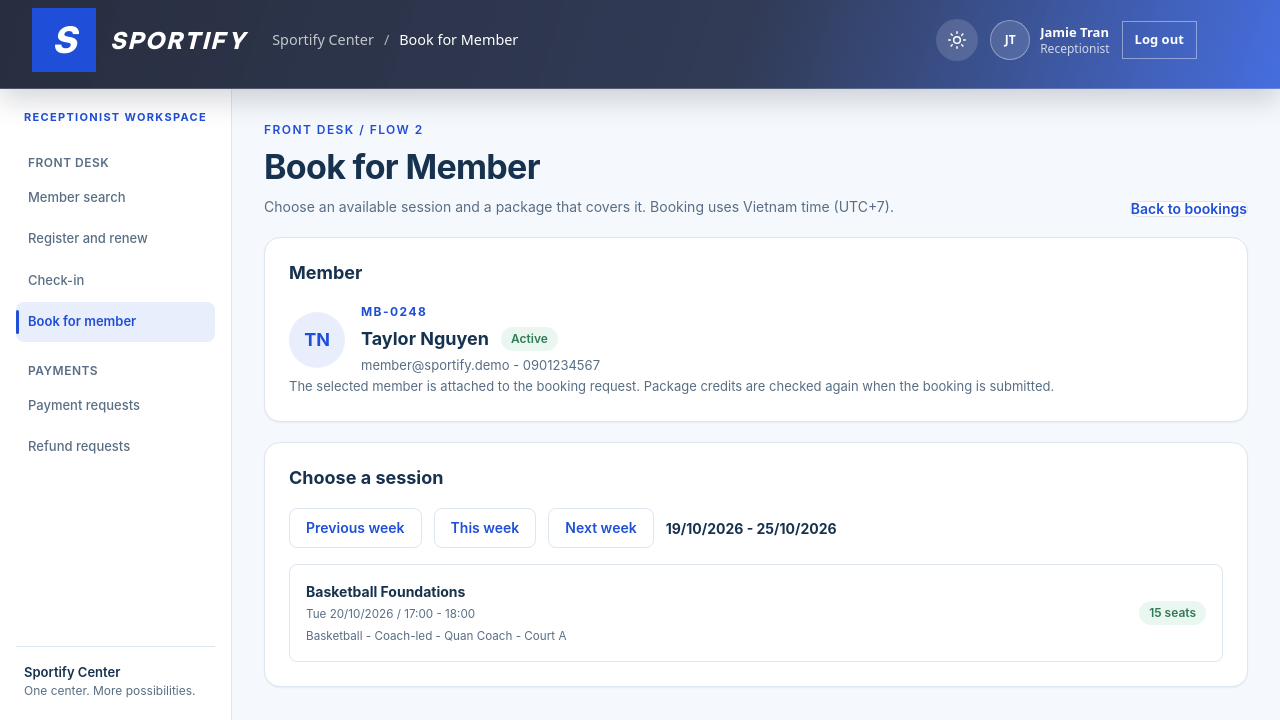
Scenario: FE-10 receptionist booking screens › creates a booking with explicit member and eligible package, then shows the confirmation
This screenshot has width=1280, height=720.
Step 1. Click the radio button labelled "Basketball Foundations" → click(386, 592), box [289,564,1223,662]
(page scrolled)
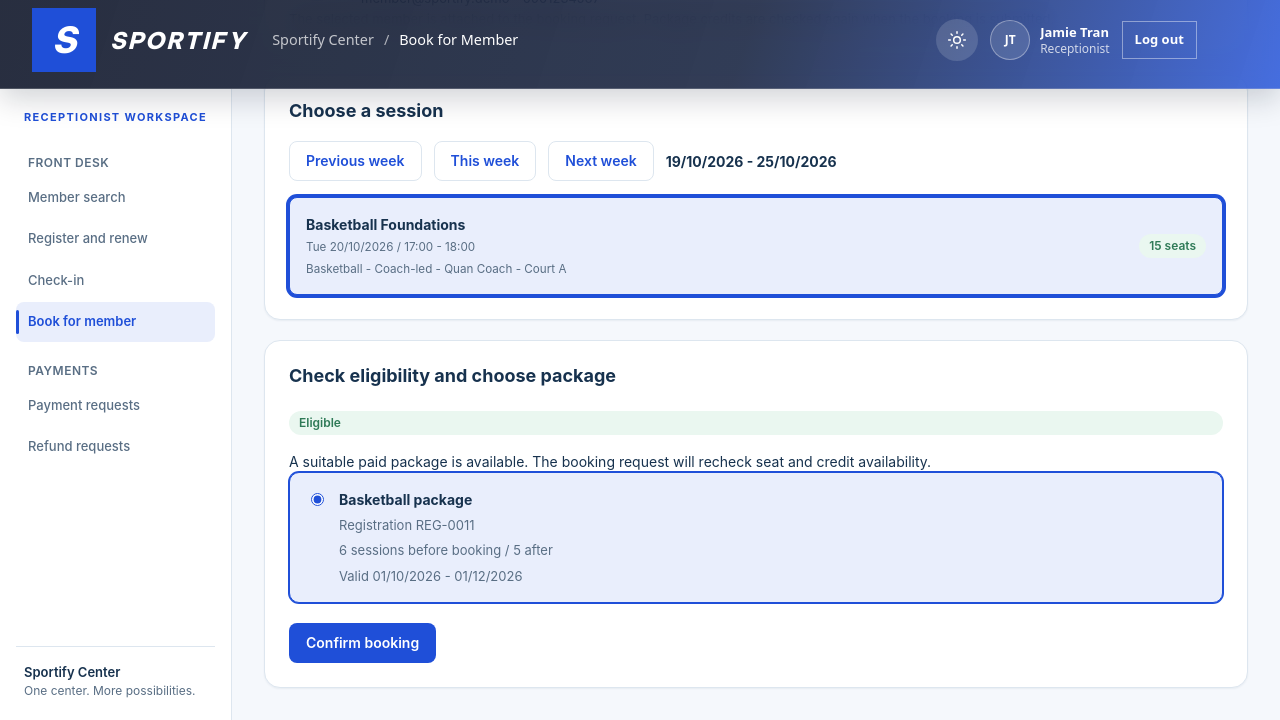
Check: the text "A suitable paid package is available" is shown, box [289,453,931,470]
Step 2. Click the button "Confirm booking" → click(363, 643), box [289,623,436,663]
(page scrolled)
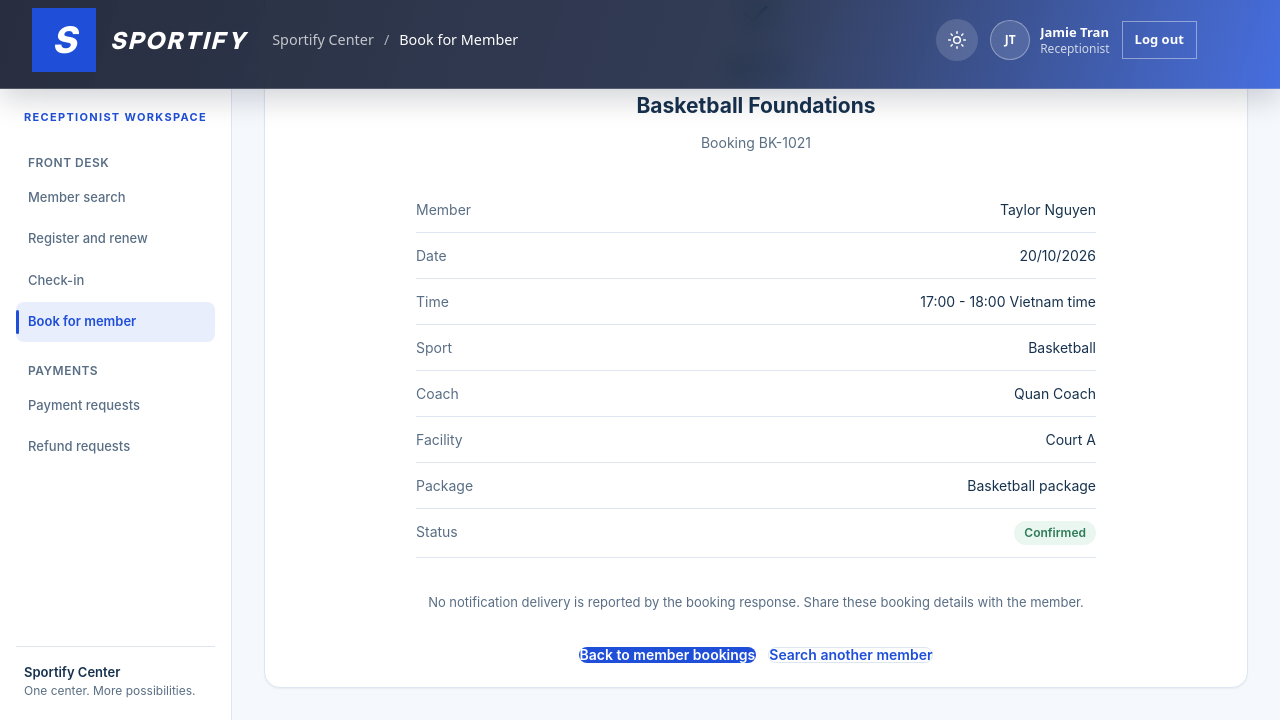
Check: the text "Booking BK-1021" is shown, box [701,132,811,153]
Check: the text "No notification delivery is reported" is shown, box [428,594,1084,610]
